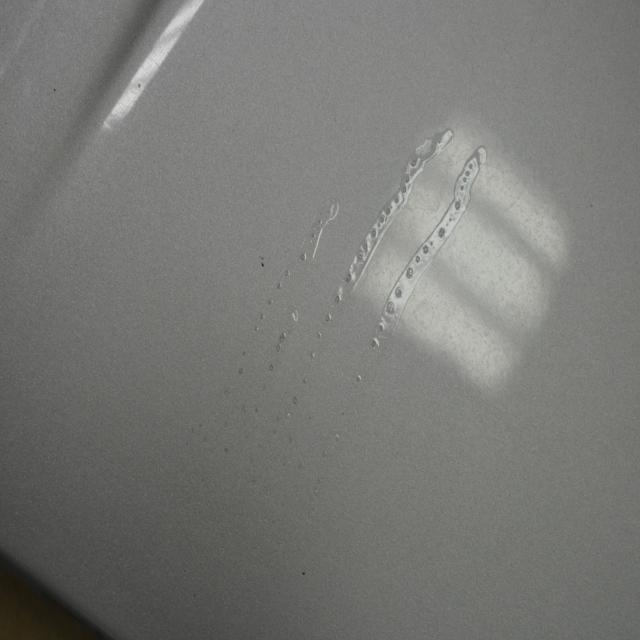dirt: (297, 563, 306, 580), (52, 81, 58, 96), (135, 80, 143, 91), (260, 258, 266, 271)
runs: (205, 127, 488, 535)
